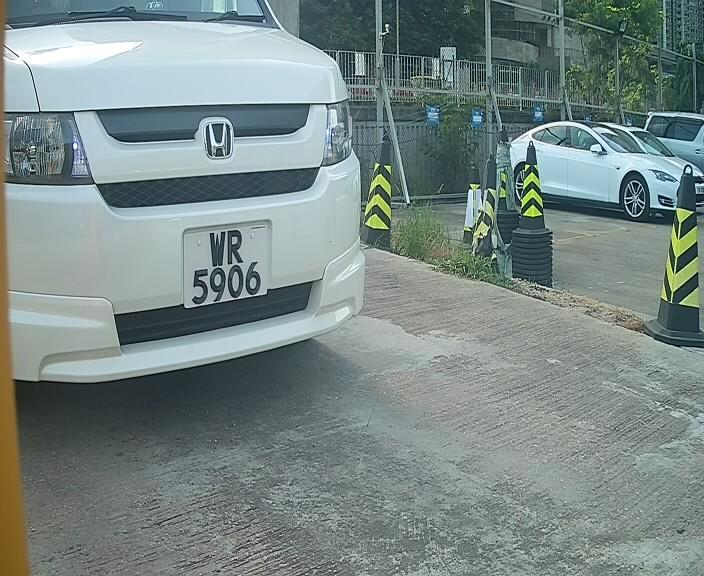privatecar: (2, 12, 391, 409)
